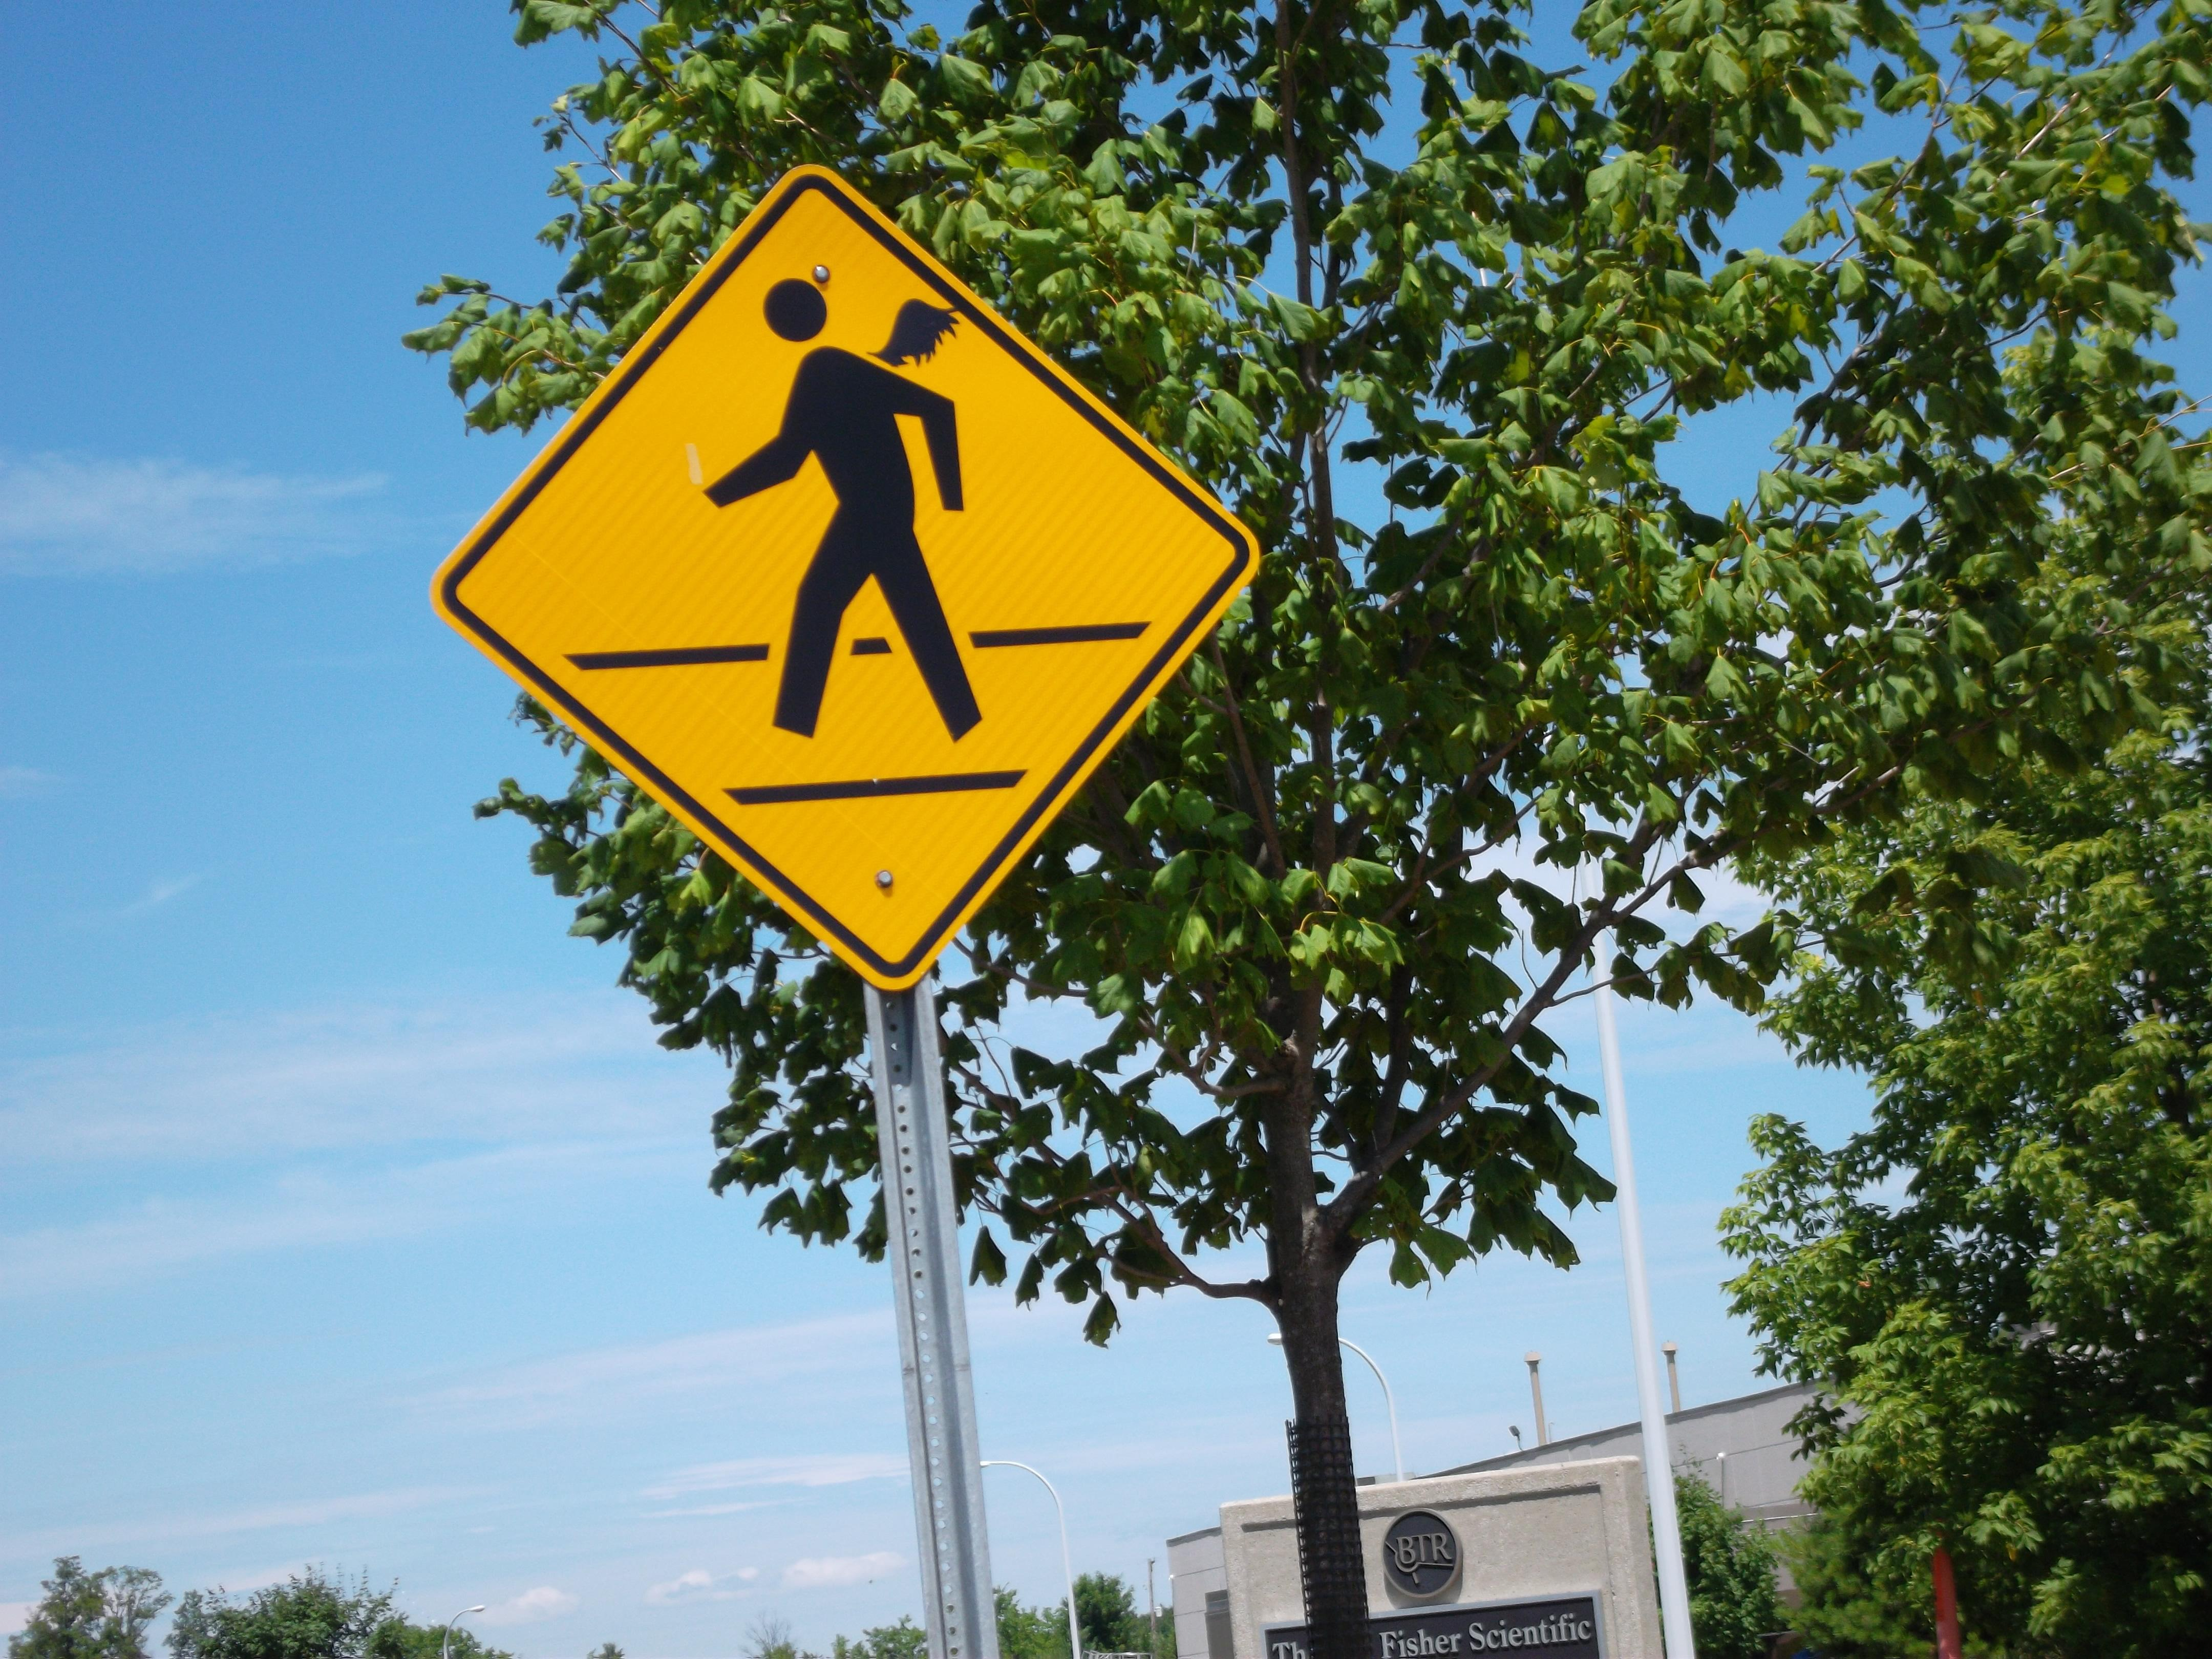warning: (425, 160, 1271, 990)
